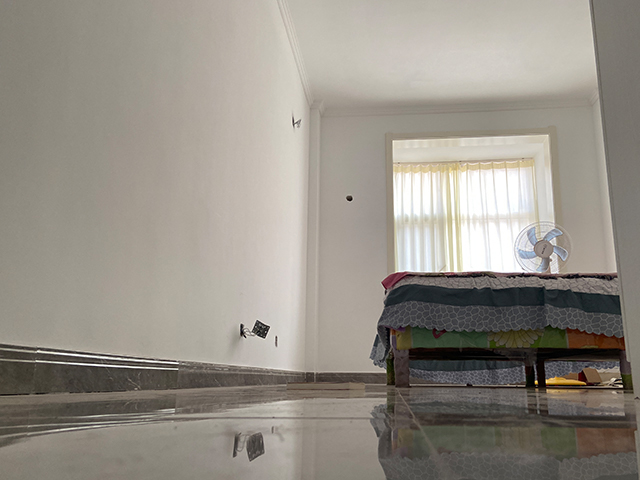bed: (369, 270, 635, 392)
